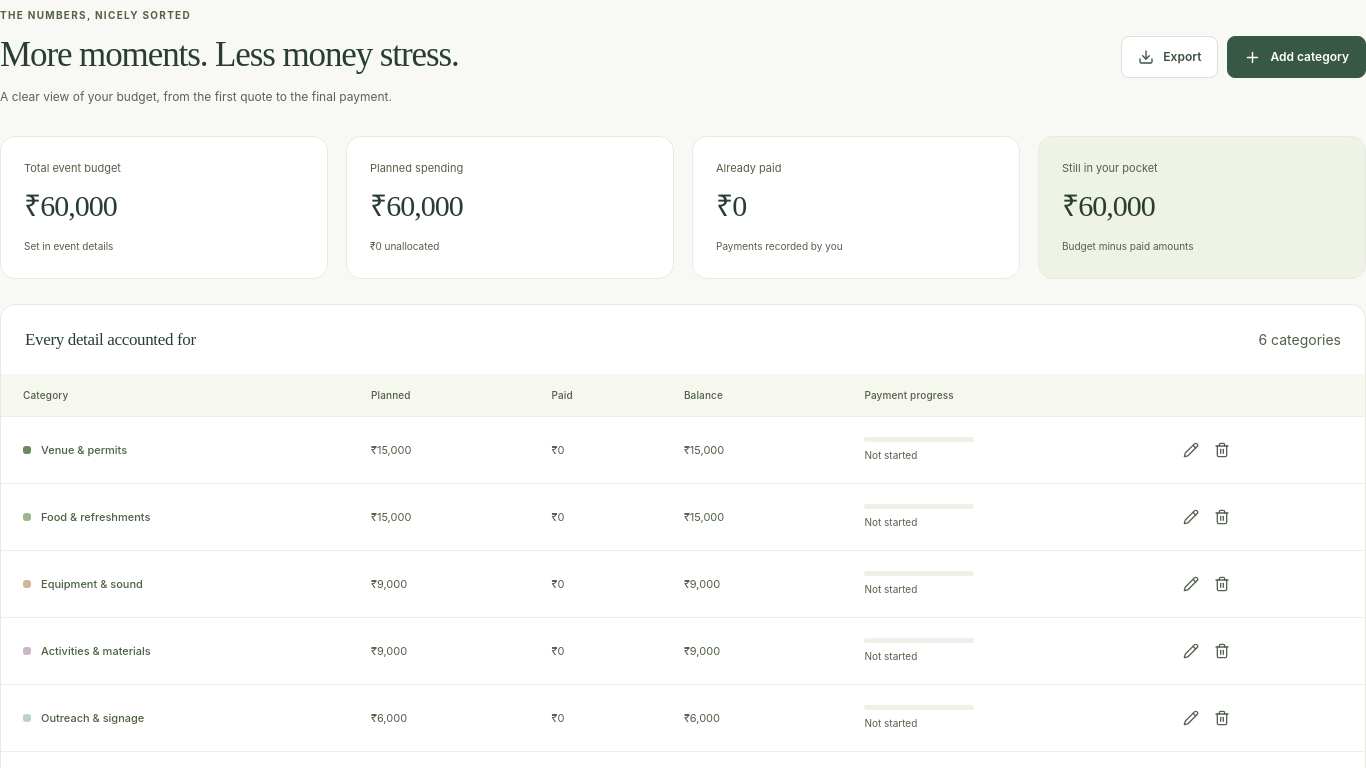
Test: rejected removal keeps the confirmation visible without a success toast
Click the button named "Delete Venue & permits": click(1222, 450) [1207, 435, 1236, 465]
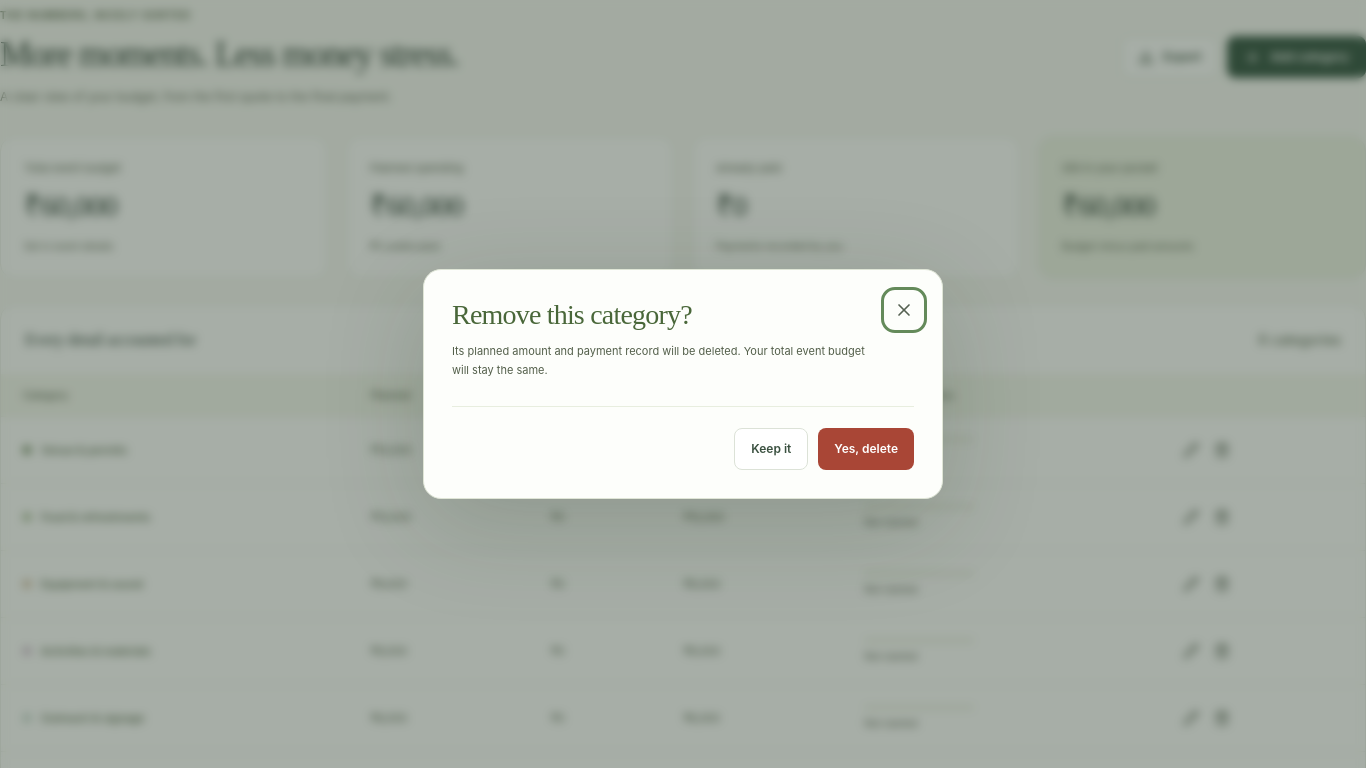
Click the button "Yes, delete": click(866, 449) [818, 428, 914, 470]
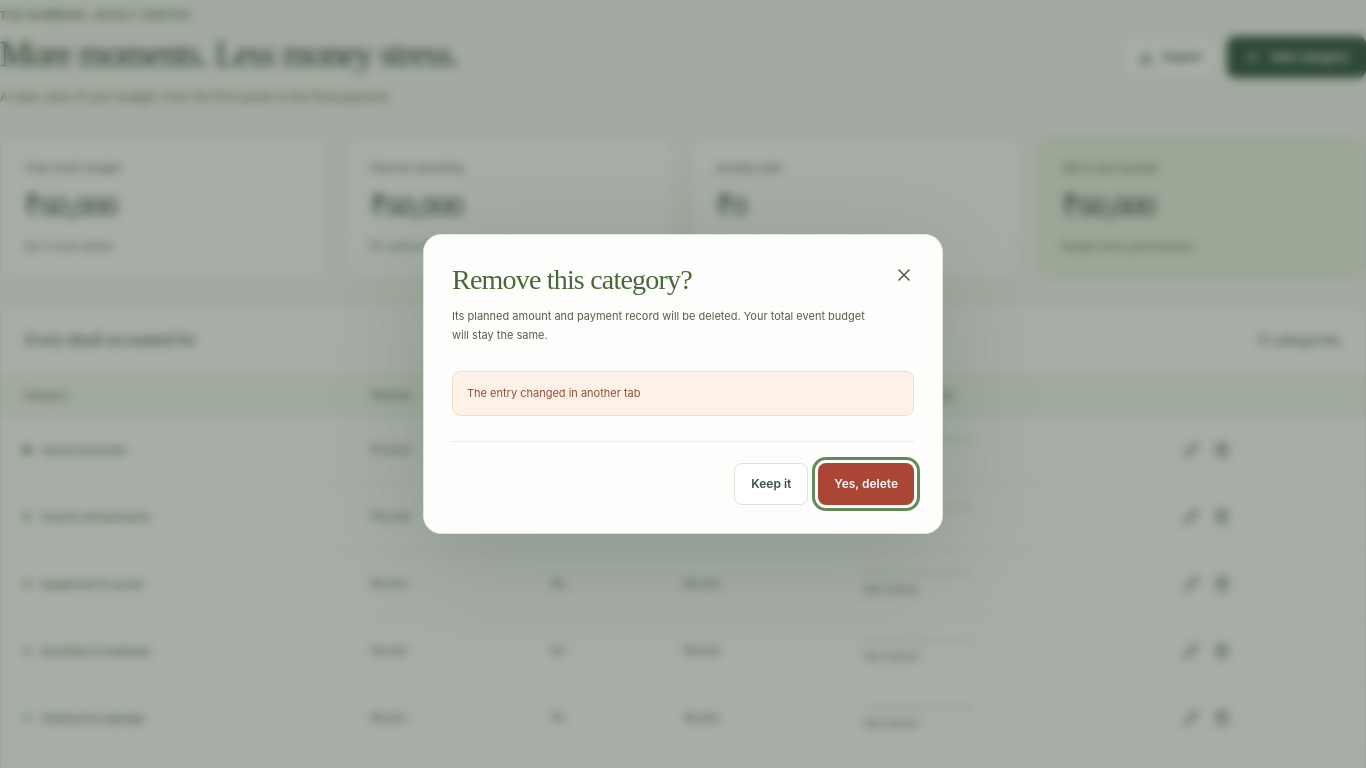
Expected: the dialog is shown, [423, 234, 943, 534]
Expected: the message reads "The entry changed in another tab", [467, 386, 640, 400]
